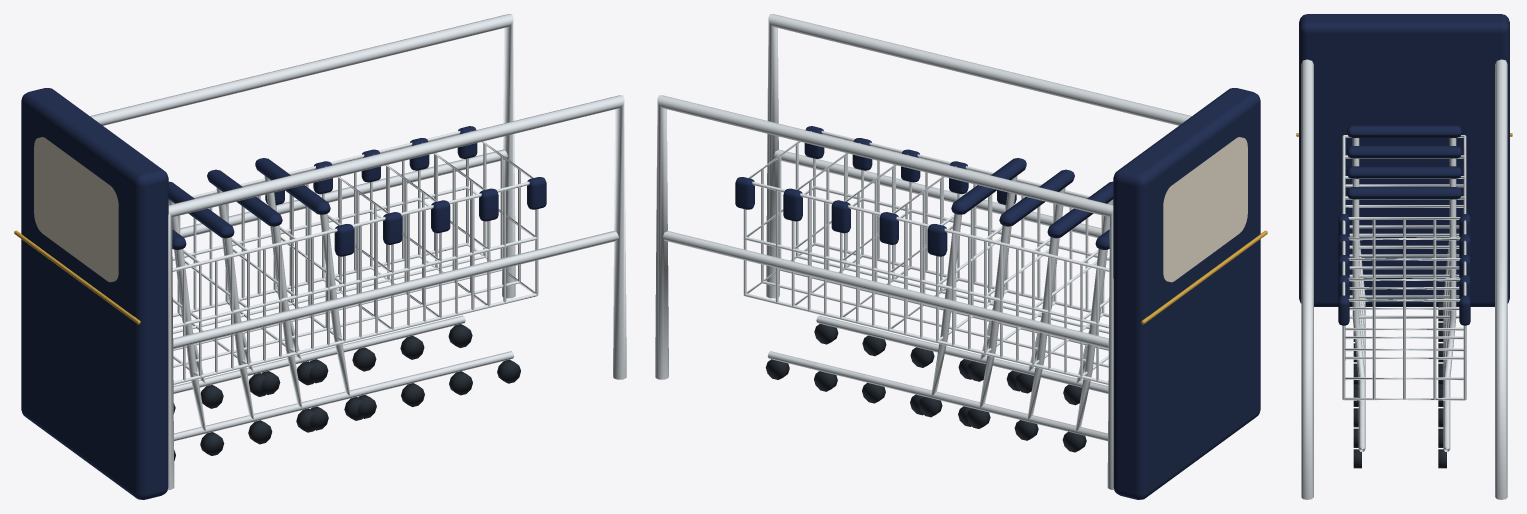
Rendered from carts_T2.fbx.
The picture shows the model from 3 angles, left to right: view 1: azimuth 30°, elevation 25°; view 2: azimuth 150°, elevation 25°; view 3: azimuth 270°, elevation 25°; orthographic projection. The views are drawn at different scales.
Visible parts, largest first — view 1: Body; view 2: Body; view 3: Body.
Boxes of the visible parts, bbox=[...] form: Body: bbox=[14, 14, 626, 499]; Body: bbox=[655, 14, 1267, 499]; Body: bbox=[1296, 14, 1512, 499].
Bounding box in the file's own units: 1.75 × 1.1 × 0.76.
